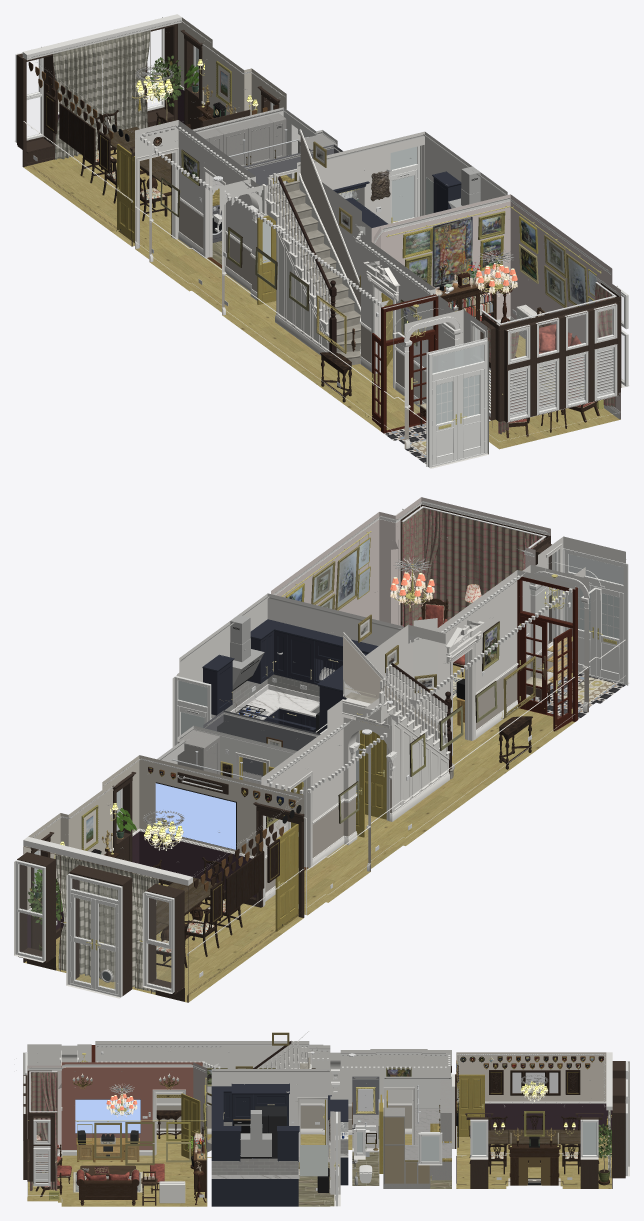
The picture shows the model from 3 angles, top to bottom: view 1: azimuth 30°, elevation 25°; view 2: azimuth 150°, elevation 25°; view 3: azimuth 270°, elevation 25°; orthographic projection. The views are drawn at different scales.
Visible parts, largest first — view 1: hallway.walls, hallway.floor, living.walls, kitchen.walls, dining.floor, living.w_bay_front.timber, living.w_bay_front.glass, stairs.carpet, living.w_bay_front.frame, dining.curtain.1.closed, dining.walls, stairs.spandrel (+54 smaller); view 2: hallway.walls, dining.walls, hallway.floor, living.curtain.closed, living.walls, dining.floor, kitchen.walls, stairs.spandrel, dining.tv.picture, vestibule.walls, hallway.cornice, dining.w_dining_n_w.surround (+57 smaller); view 3: hallway.walls, dining.walls, living.walls, living.floor, kitchen.walls, dining.floor, kitchen.base.hob, living.tv.picture, dining.fireplace, utility.walls, living.sofa, hallway.cornice (+81 smaller).
Boxes of the visible parts, x1,y1,x2,y2 form: hallway.walls: [135, 120, 435, 403]; hallway.floor: [135, 238, 419, 431]; living.walls: [371, 194, 629, 422]; kitchen.walls: [297, 131, 507, 223]; dining.floor: [24, 149, 172, 246]; living.w_bay_front.timber: [499, 296, 620, 422]; living.w_bay_front.glass: [510, 310, 613, 417]; stairs.carpet: [270, 180, 360, 365]; living.w_bay_front.frame: [507, 303, 617, 422]; dining.curtain.1.closed: [101, 32, 144, 133]; dining.walls: [14, 17, 286, 142]; stairs.spandrel: [265, 198, 329, 355]; hallway.walls: [261, 570, 575, 892]; dining.walls: [14, 755, 304, 998]; hallway.floor: [264, 708, 574, 915]; living.curtain.closed: [402, 508, 545, 626]; living.walls: [271, 497, 553, 644]; dining.floor: [24, 883, 303, 1002]; kitchen.walls: [172, 593, 403, 746]; stairs.spandrel: [383, 700, 450, 821]; dining.tv.picture: [155, 783, 235, 849]; vestibule.walls: [522, 536, 629, 712]; hallway.cornice: [264, 572, 572, 794]; dining.w_dining_n_w.surround: [146, 877, 188, 1002]; hallway.walls: [95, 1041, 451, 1129]; dining.walls: [456, 1052, 629, 1185]; living.walls: [23, 1062, 202, 1186]; living.floor: [27, 1154, 207, 1206]; kitchen.walls: [211, 1069, 340, 1206]; dining.floor: [456, 1135, 611, 1188]; kitchen.base.hob: [211, 1179, 298, 1206]; living.tv.picture: [75, 1099, 140, 1133]; dining.fireplace: [508, 1144, 560, 1185]; utility.walls: [383, 1076, 451, 1165]; living.sofa: [76, 1169, 139, 1205]; hallway.cornice: [95, 1044, 451, 1069].
Bounding box in the file's own units: 5 × 4.51 × 17.74.
382 materials, 73 textured.
